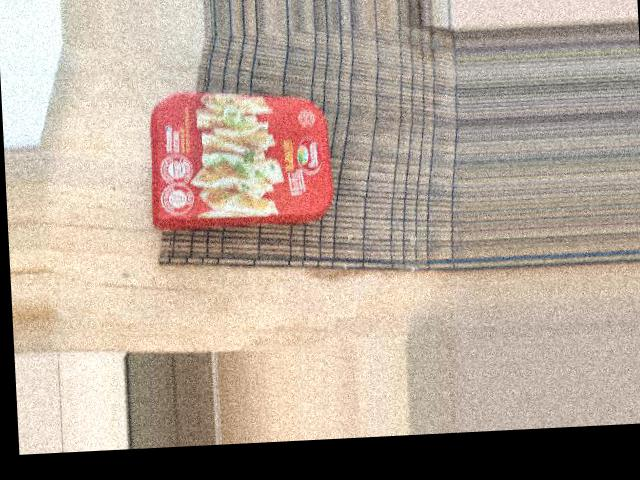cheese: (289, 27, 420, 228)
